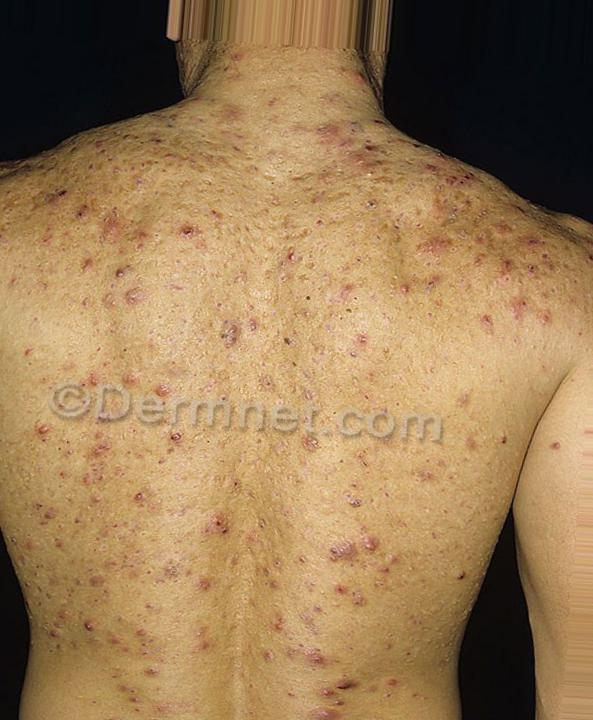Acne: (246, 168, 503, 379), (233, 411, 408, 700), (48, 433, 235, 680), (6, 168, 230, 365), (108, 121, 393, 177)
